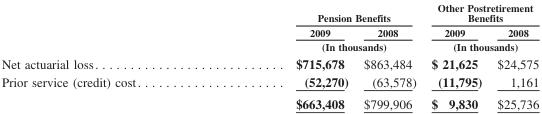table: (0, 1, 538, 110)
table column: (0, 1, 217, 110), (217, 1, 355, 110), (355, 1, 423, 110), (423, 1, 488, 110), (488, 1, 538, 110)
table column header: (0, 1, 538, 54)
table row: (0, 1, 538, 24), (0, 72, 538, 92), (0, 54, 538, 72), (0, 92, 538, 110), (0, 24, 538, 39), (0, 39, 538, 54)
table spanning cell: (217, 1, 423, 24), (217, 39, 423, 54), (423, 1, 538, 24), (423, 39, 538, 54)
